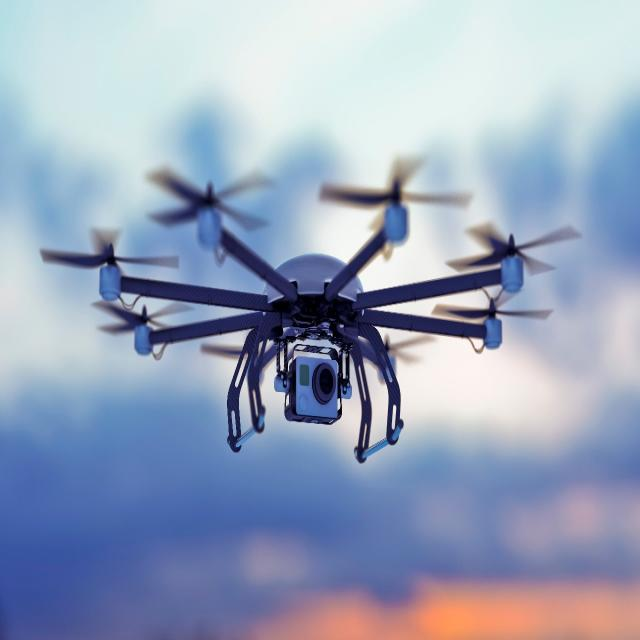drones: (29, 130, 586, 460)
